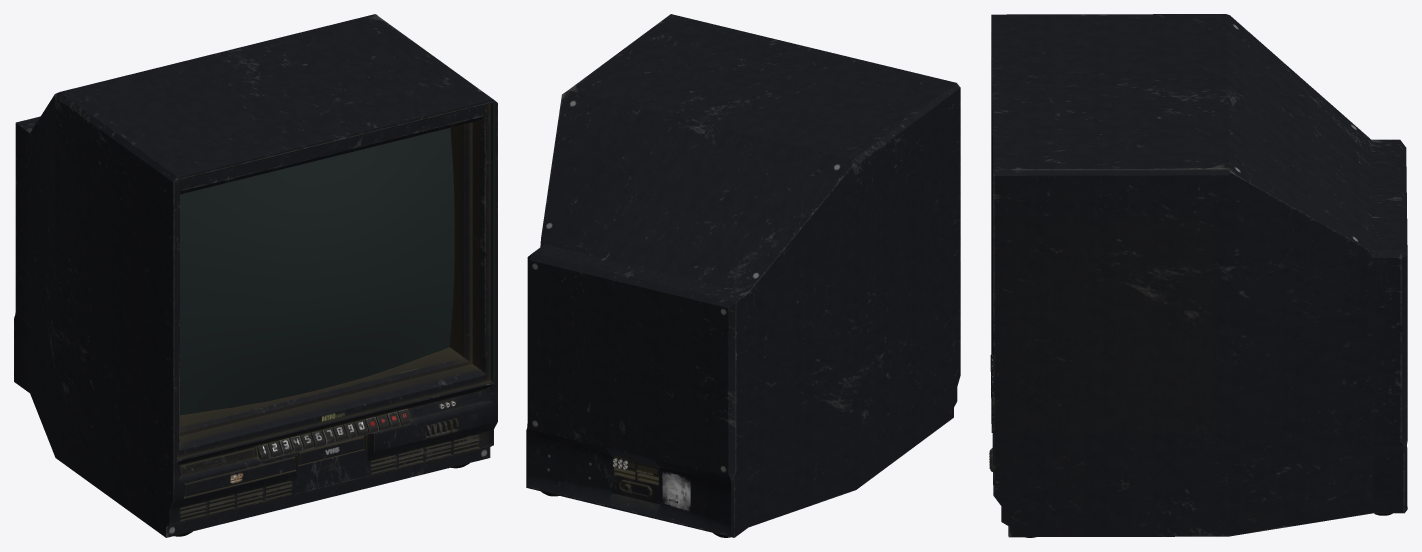
3 views of the same model, side by side, from view 1: azimuth 30°, elevation 25°; view 2: azimuth 150°, elevation 25°; view 3: azimuth 270°, elevation 25° (orthographic). The views are drawn at different scales.
Visible parts, largest first — view 1: Retro TV cabinet, Blank live CRT glass; view 2: Retro TV cabinet; view 3: Retro TV cabinet.
Part boxes in pixels (x1,y1,x2,y2): Retro TV cabinet: [14, 14, 497, 537]; Blank live CRT glass: [180, 102, 495, 415]; Retro TV cabinet: [526, 14, 960, 537]; Retro TV cabinet: [989, 14, 1407, 537].
Bounding box in the file's own units: 2.01 × 2.19 × 2.22.
Materials: 2 (1 with a texture image).
